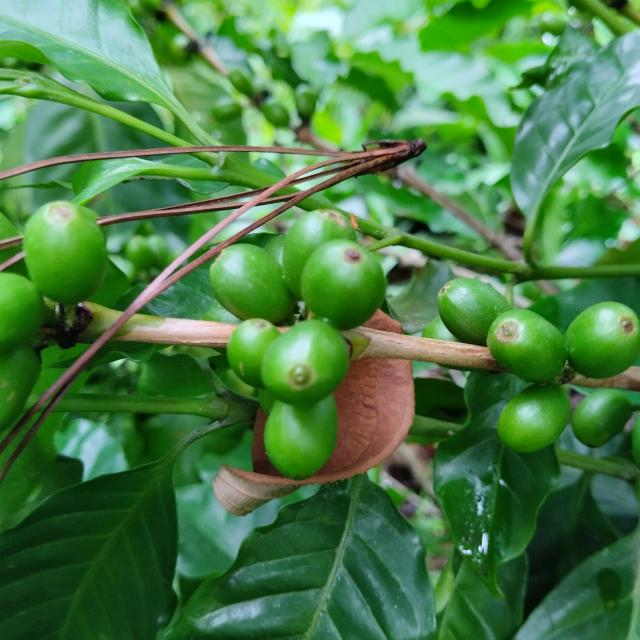green: (22, 201, 107, 304), (301, 239, 387, 330), (260, 319, 349, 406), (209, 243, 296, 324), (282, 209, 356, 298), (264, 394, 337, 481), (488, 310, 568, 383), (566, 301, 640, 379), (498, 383, 572, 453), (438, 278, 512, 346), (226, 319, 280, 388), (264, 234, 286, 266)
